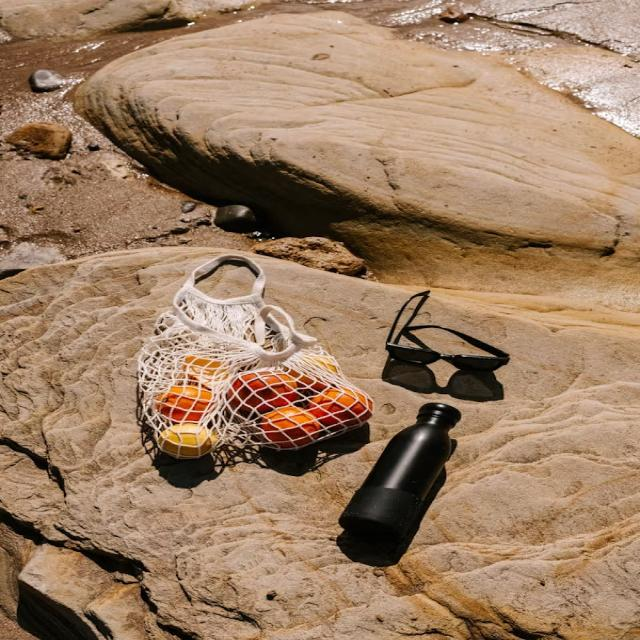Bottle: (340, 404, 460, 539)
